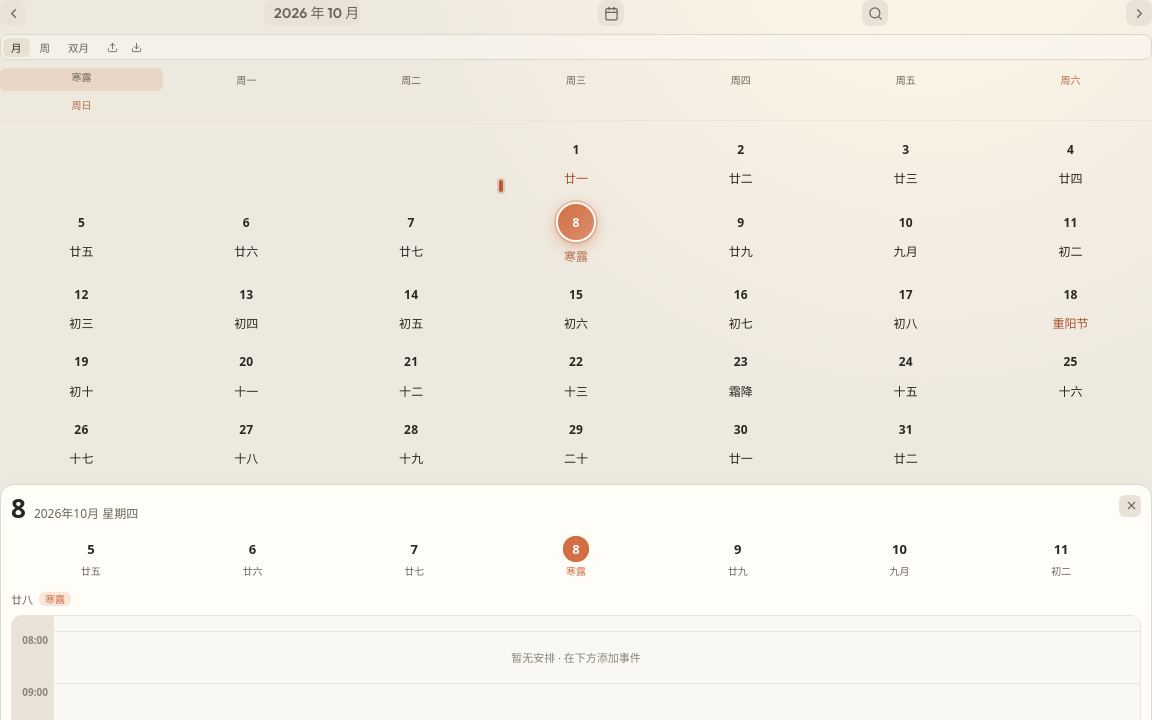
CalendarWidget 组件级回归 › 点月格换天：详情切换 + 周条选中移动
The width and height of the screenshot is (1152, 720).
(page scrolled)
What coordinates should you click on to do the following:
click the button with aria-label "2026年10月10日 星期六"
I would click on:
 (906, 236)
Its box is [824,198,987,274].
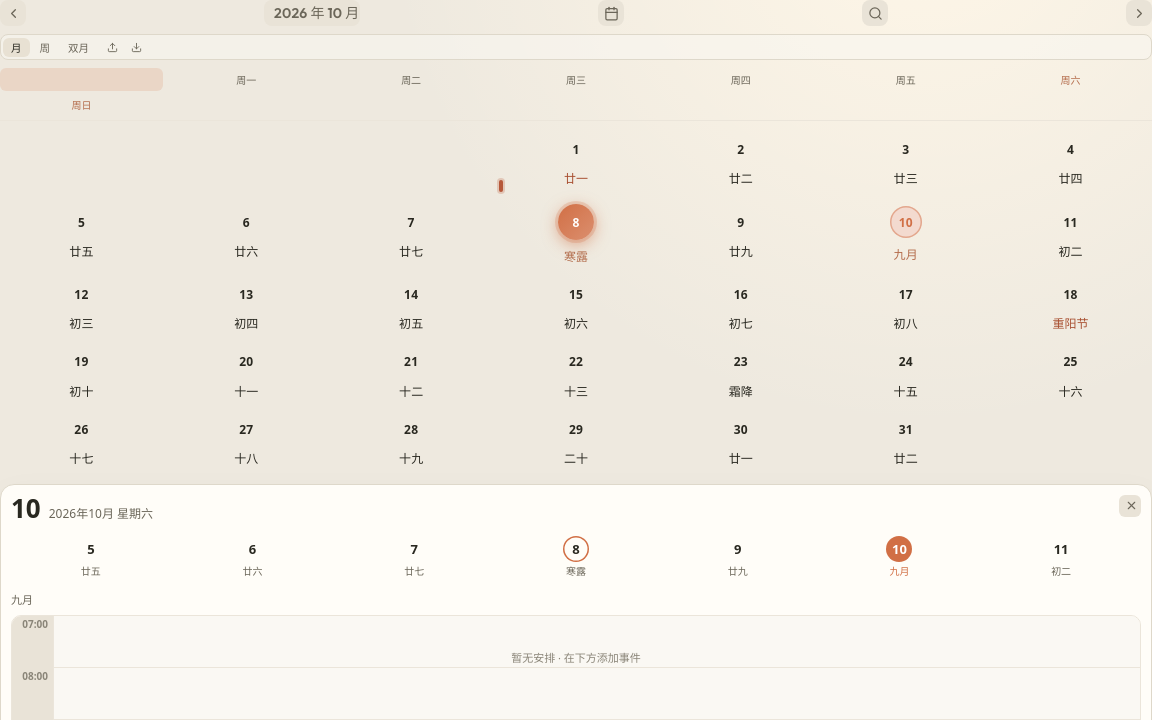
Check: the text "2026年10月 星期六" is shown, box [49,504,153,522]
